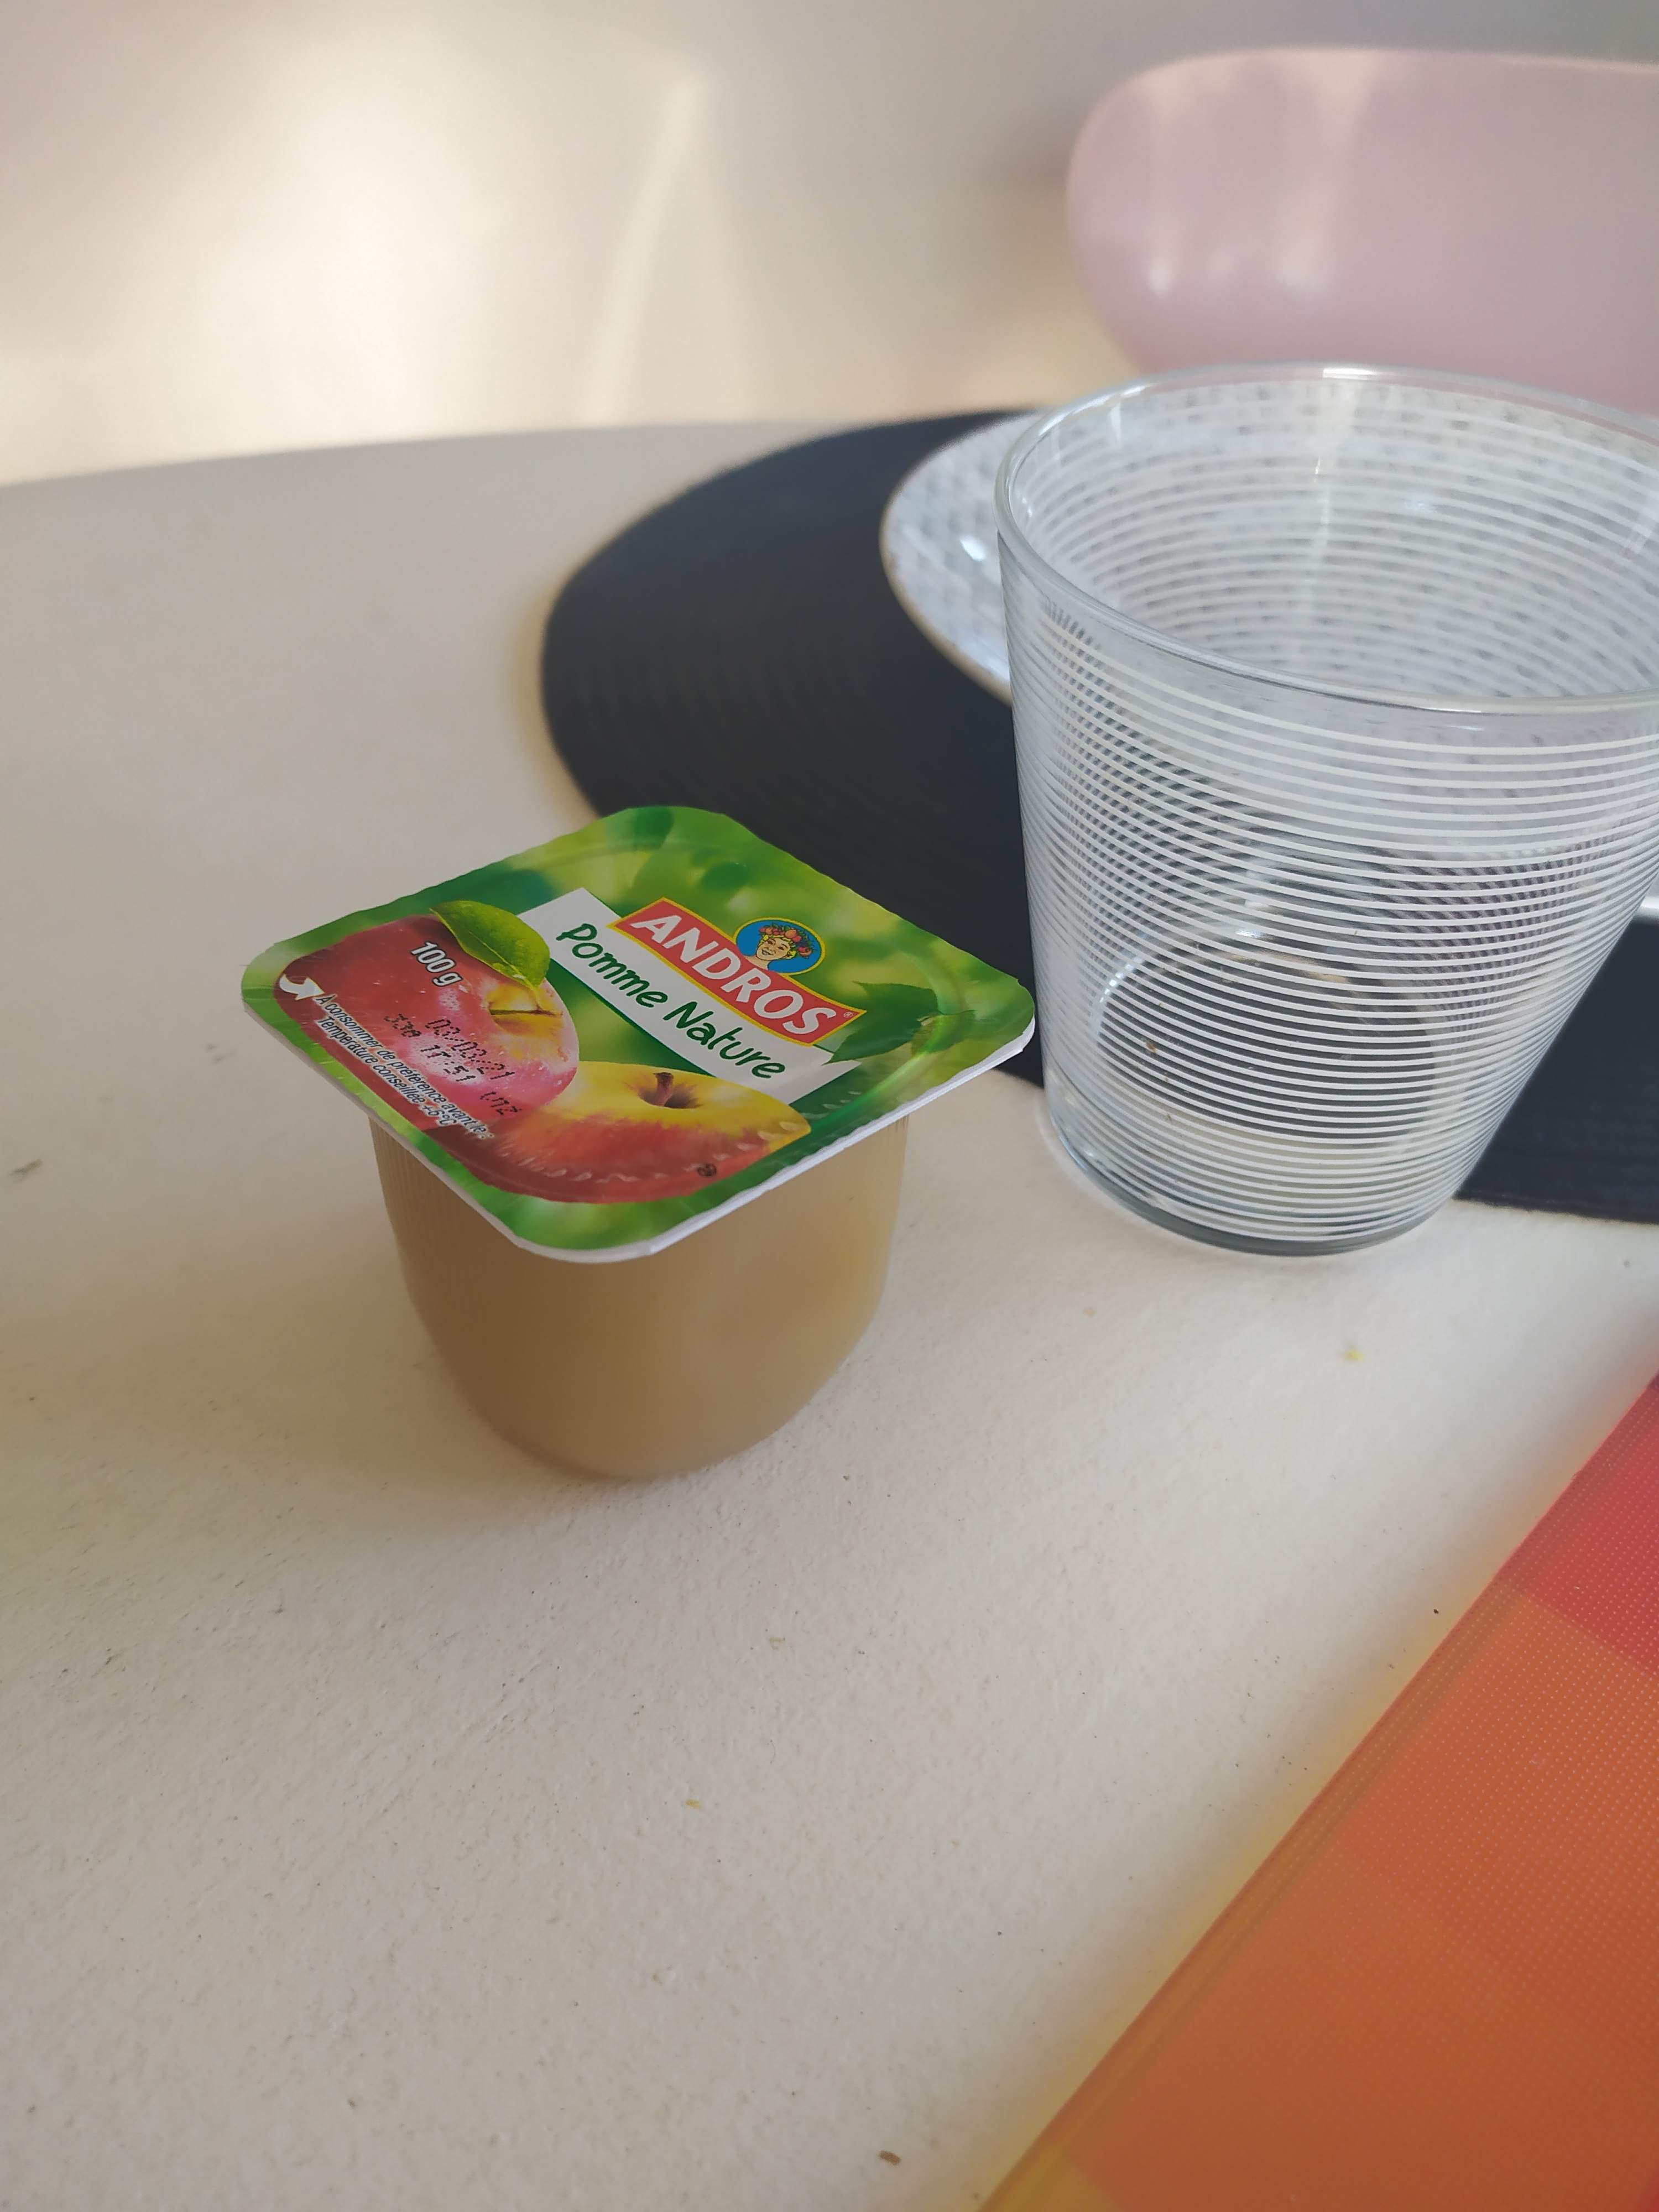compote: (240, 799, 1049, 1505)
